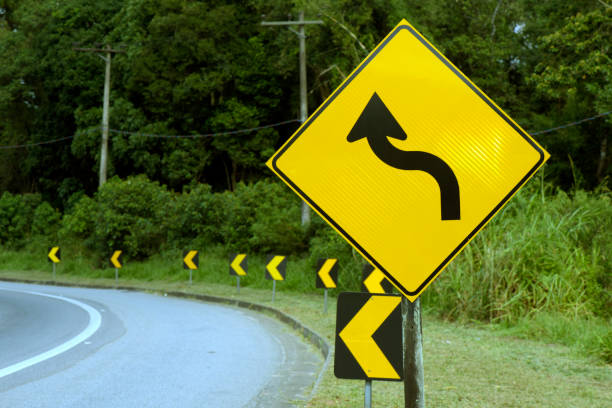left turn: (264, 18, 552, 300), (336, 294, 401, 382), (362, 264, 393, 299), (317, 258, 336, 289), (265, 255, 286, 281), (230, 252, 248, 277), (183, 249, 199, 270), (110, 249, 124, 269), (48, 245, 61, 264)
